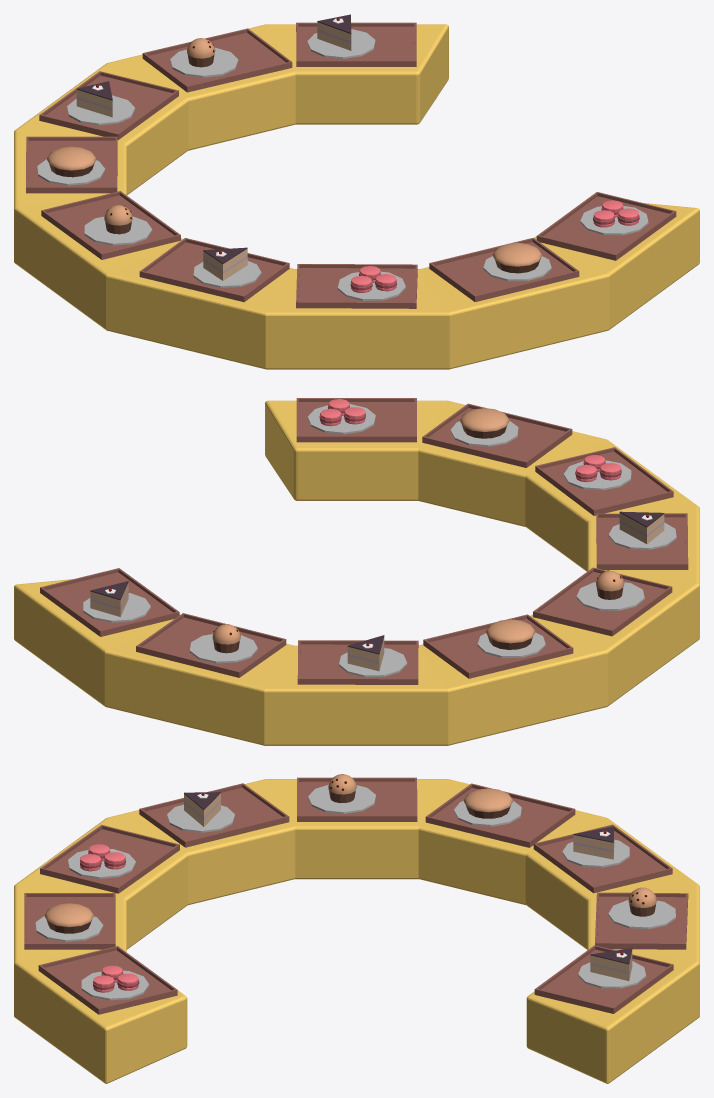
Rendered from yemek_alanı.fbx.
The picture shows the model from 3 angles, top to bottom: view 1: azimuth 30°, elevation 25°; view 2: azimuth 150°, elevation 25°; view 3: azimuth 270°, elevation 25°; orthographic projection.
Parts seen in each view (by area): view 1: Cube.008; view 2: Cube.008; view 3: Cube.008.
Part boxes in pixels (box(x1,y1,x2,y2)): Cube.008: box(14, 14, 699, 369); Cube.008: box(14, 398, 699, 745); Cube.008: box(14, 774, 699, 1083).
Size of the model in its own units: 167 by 26.18 by 193.
